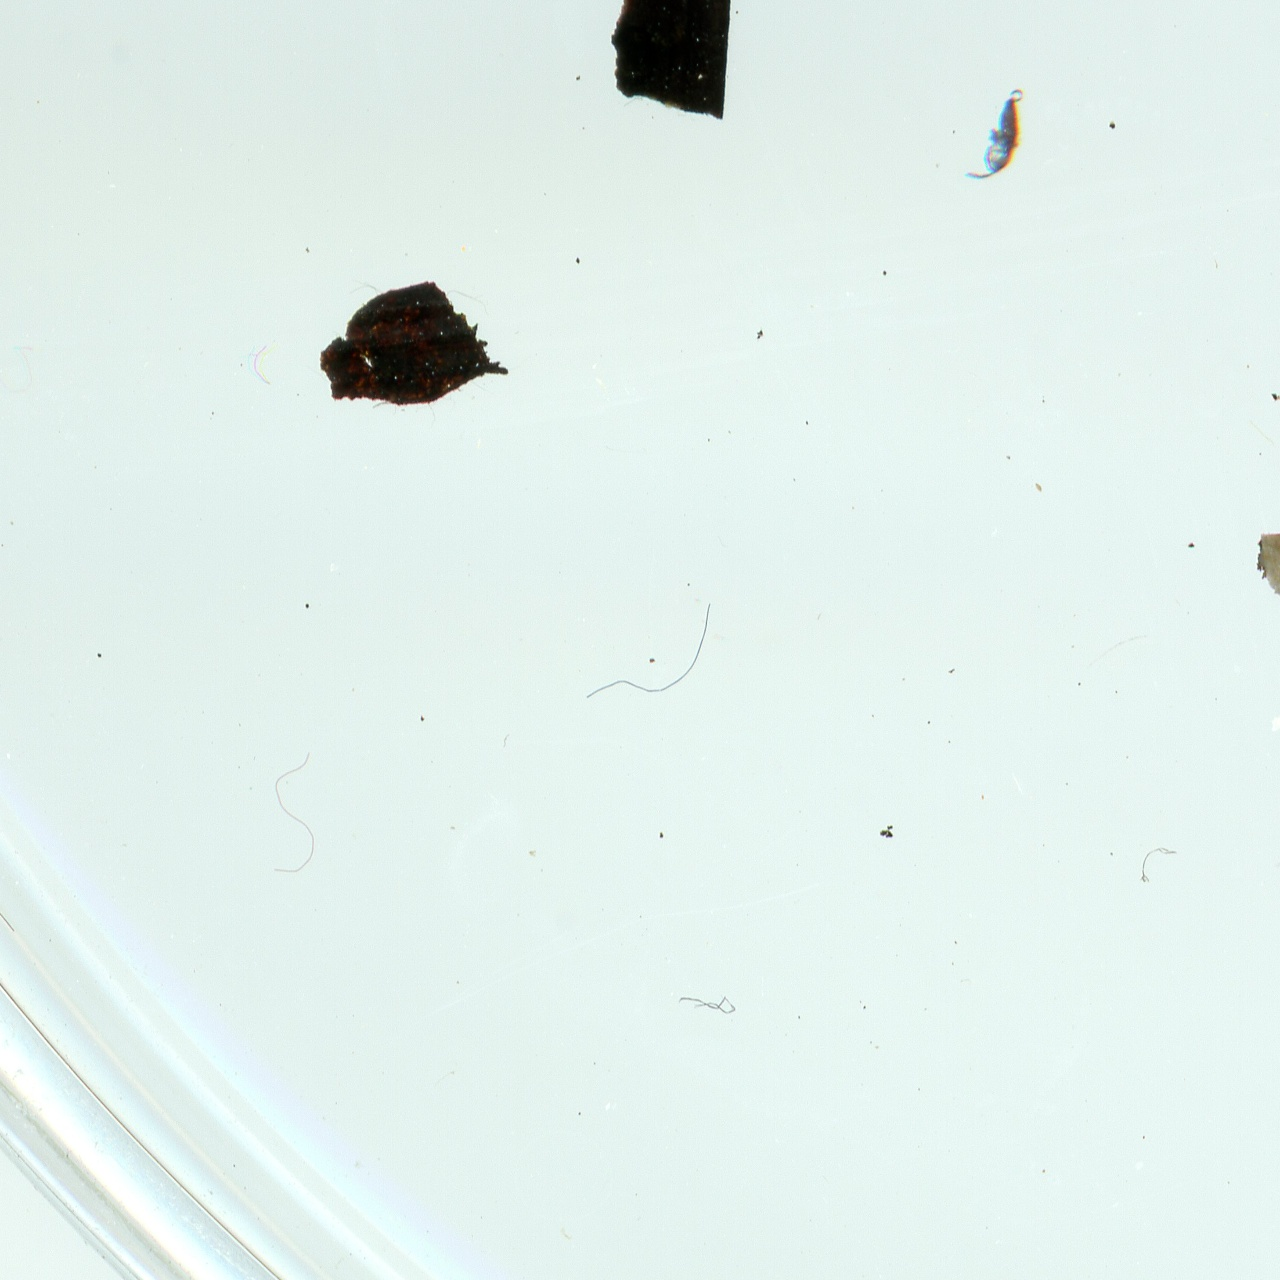arthropod: (959, 93, 1030, 189)
